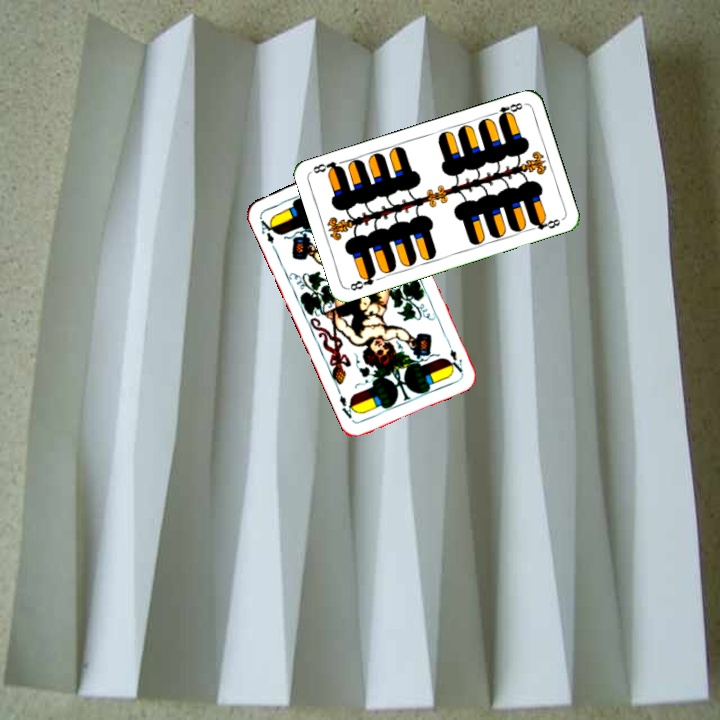E8: (487, 99, 525, 122), (345, 268, 379, 293)
EA: (443, 337, 465, 375), (256, 214, 279, 246)
